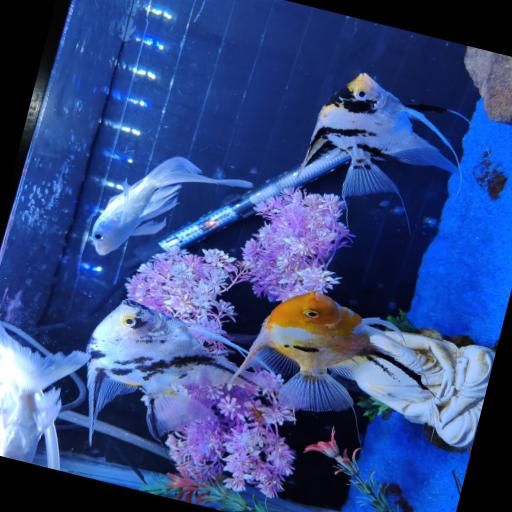Fish: (87, 300, 246, 443), (234, 291, 406, 411), (303, 74, 459, 200), (231, 291, 372, 411), (91, 157, 252, 255), (0, 324, 90, 462)
